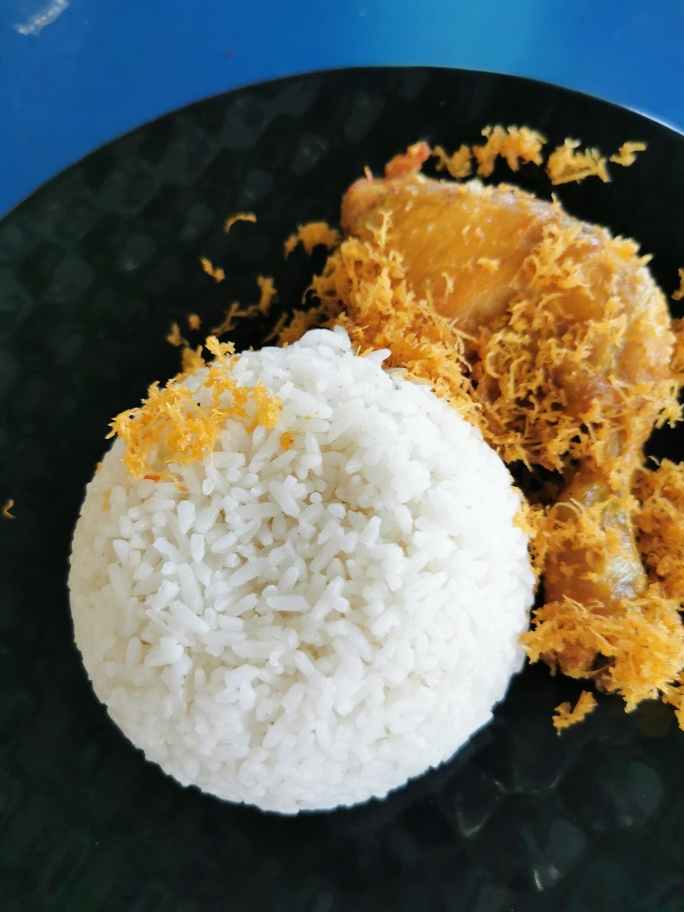ayam goreng: (326, 133, 684, 708)
nasi putih: (72, 333, 545, 806)
